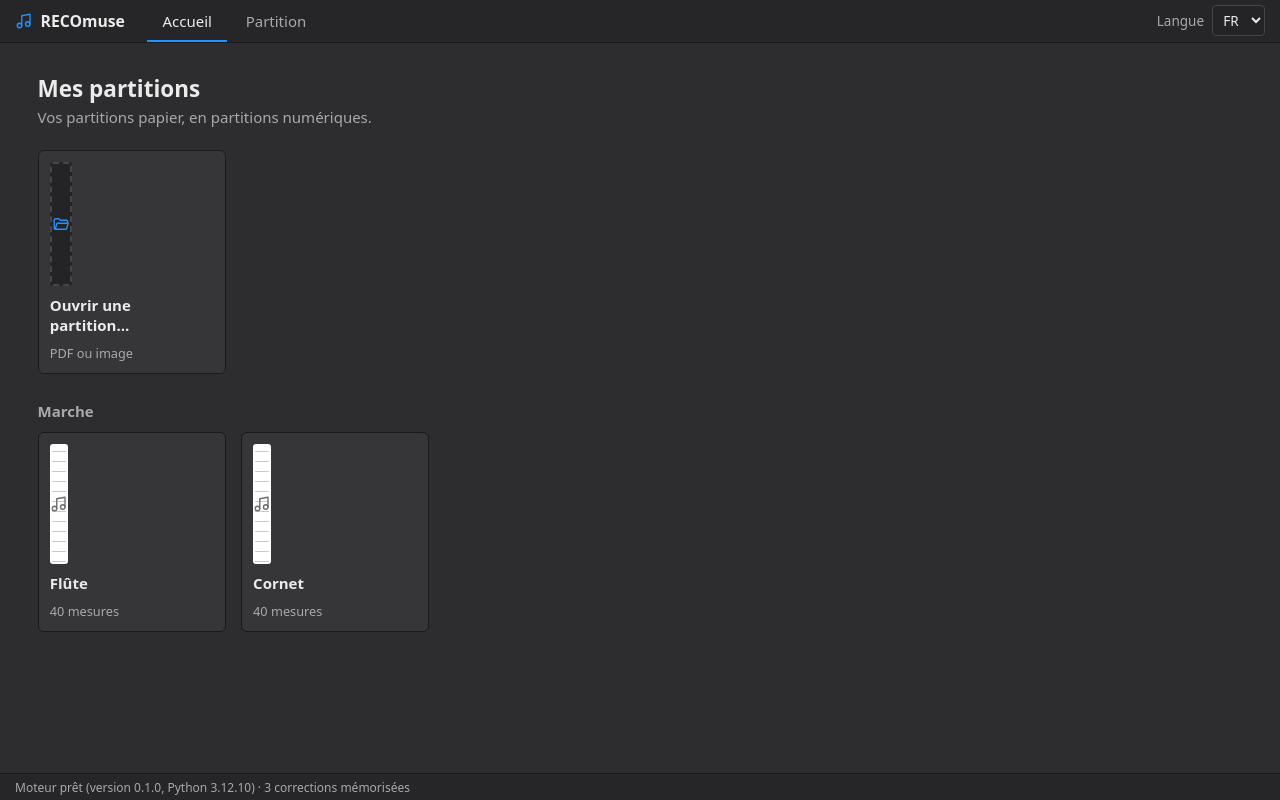
App › montre les partitions lues en cartes, et ouvre celle qu'on choisit
This screenshot has width=1280, height=800.
What coordinates should you click on to do the following:
click the button "Cornet 40 mesures"
I would click on:
 (335, 532)
Its box is [241, 432, 429, 632].
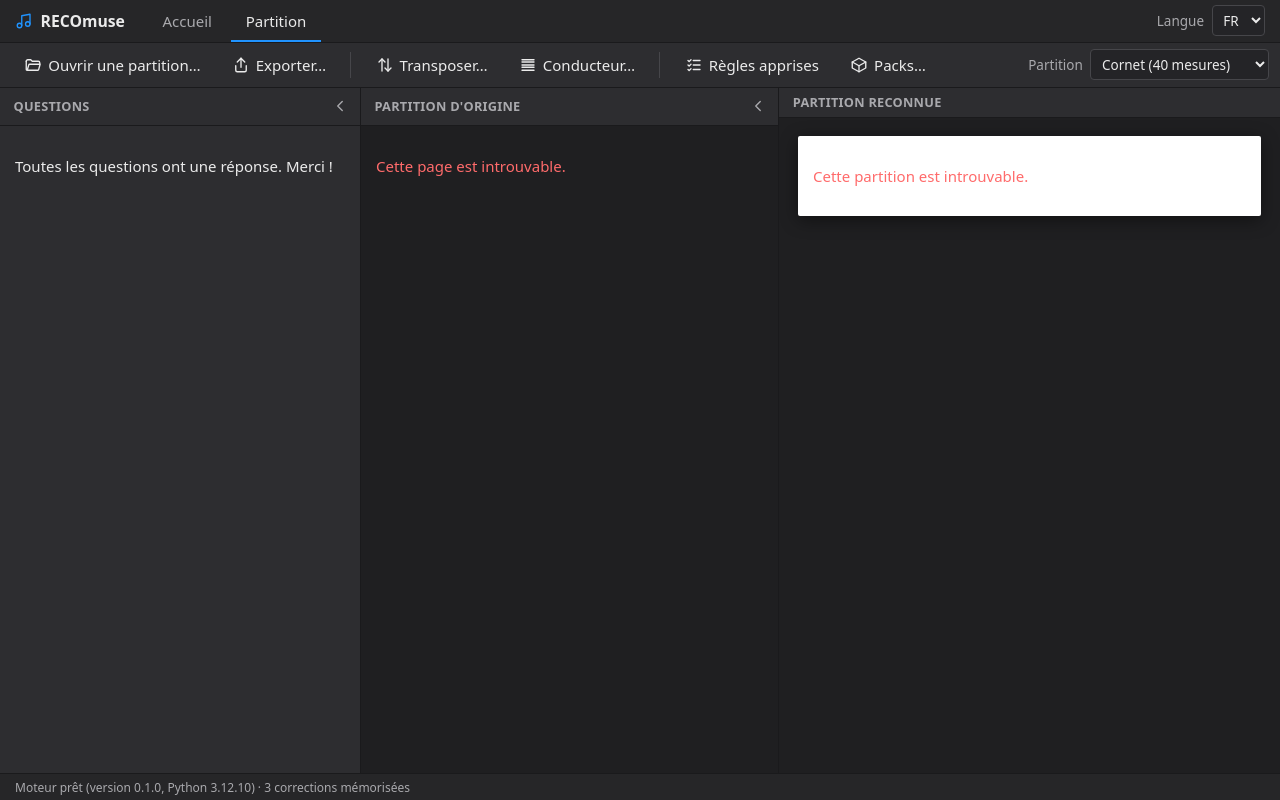
expect the dropdown labelled "Partition" shows "Cornet (40 mesures)": met, box [1090, 49, 1269, 80]
